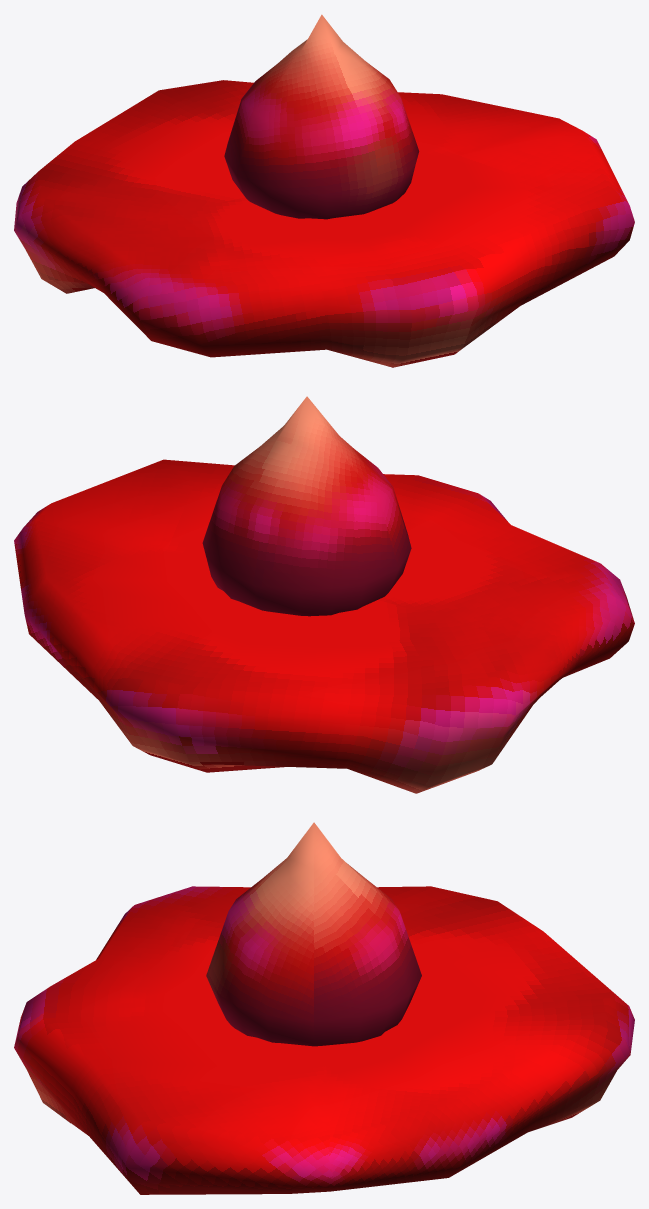
Rendered from ketchup.glb.
3 views of the same model, one above another, from view 1: azimuth 30°, elevation 25°; view 2: azimuth 150°, elevation 25°; view 3: azimuth 270°, elevation 25° (orthographic). The views are drawn at different scales.
Visible parts, largest first — view 1: _splat, Cube; view 2: _splat, Cube; view 3: _splat, Cube.
Boxes of the visible parts, x1,y1,x2,y2 form: _splat: (14,80,634,367); Cube: (224,14,419,219); _splat: (14,459,634,793); Cube: (202,396,411,616); _splat: (14,886,634,1194); Cube: (206,822,421,1046).
Size of what is drawn, in the model's own units: 2.86 by 1.43 by 2.72.
1 material, 1 textured.
